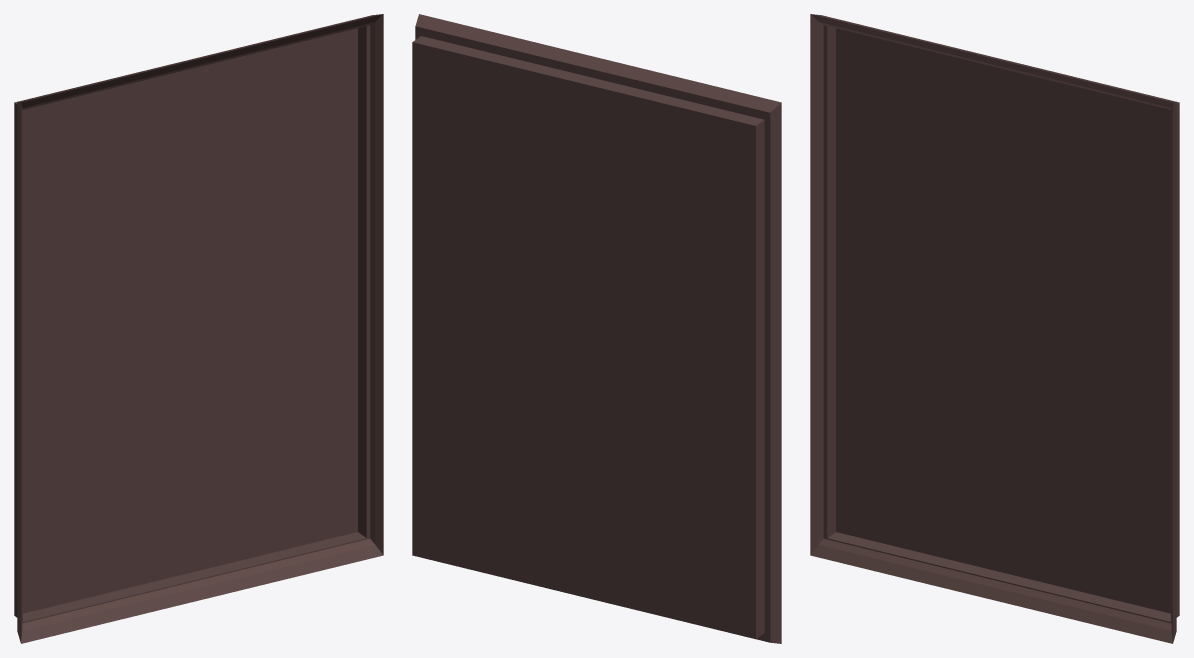
File: painting2.glb
3 renders of one model, left to right at view 1: azimuth 30°, elevation 25°; view 2: azimuth 150°, elevation 25°; view 3: azimuth 330°, elevation 25°, orthographic.
Parts seen in each view (by area): view 1: Picture2; view 2: Picture2; view 3: Picture2.
Part boxes in pixels (left/top/right/bottom): Picture2: left=14, top=14, right=383, bottom=643; Picture2: left=412, top=14, right=781, bottom=643; Picture2: left=810, top=14, right=1179, bottom=643.
Size of the model in its own units: 1.66 by 2.37 by 0.1277.
1 material, 1 textured.
